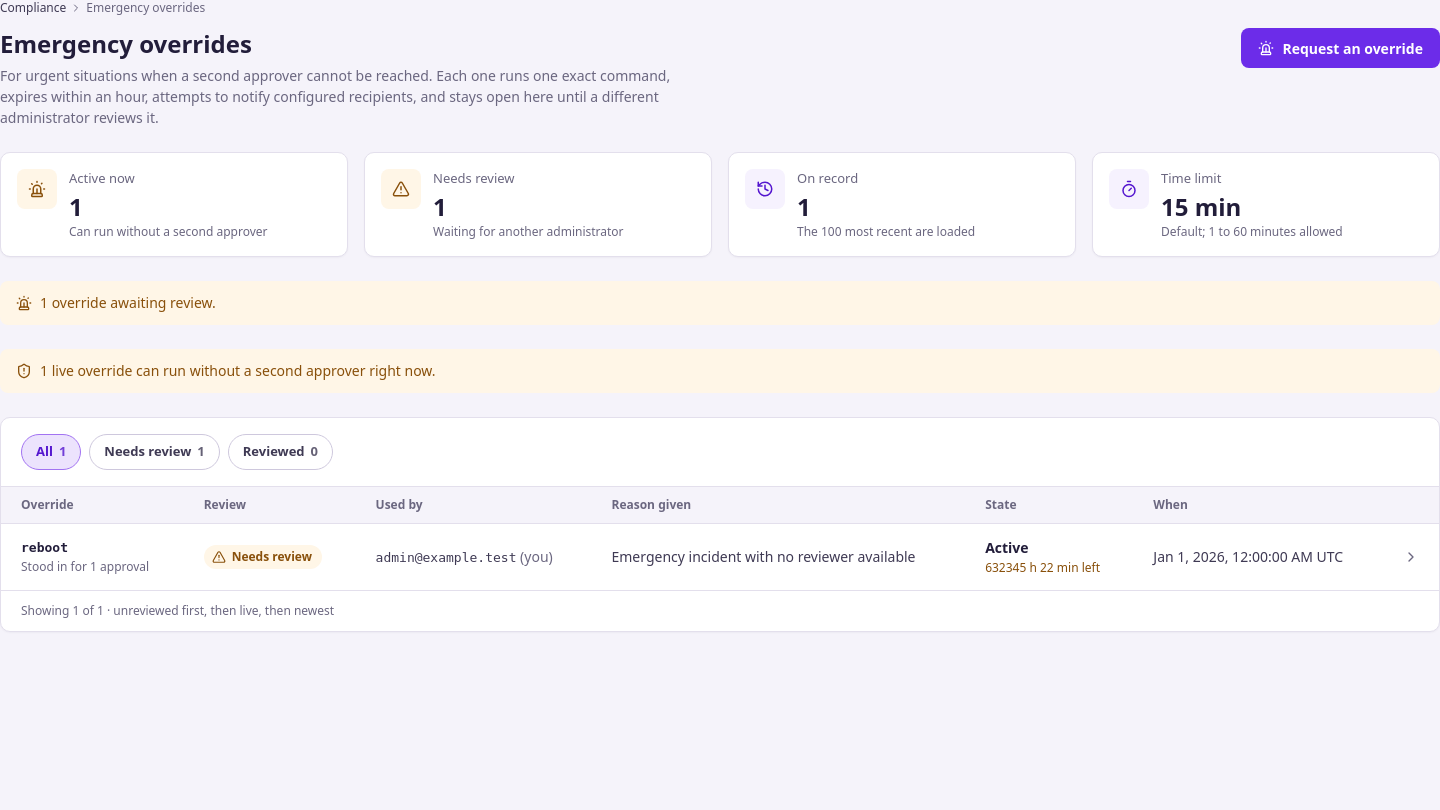
Test case: running an override requires confirmation while preserving the bodyless API and refusal
Click the row named "Open reboot override" at [720, 557], box [1, 523, 1439, 590]
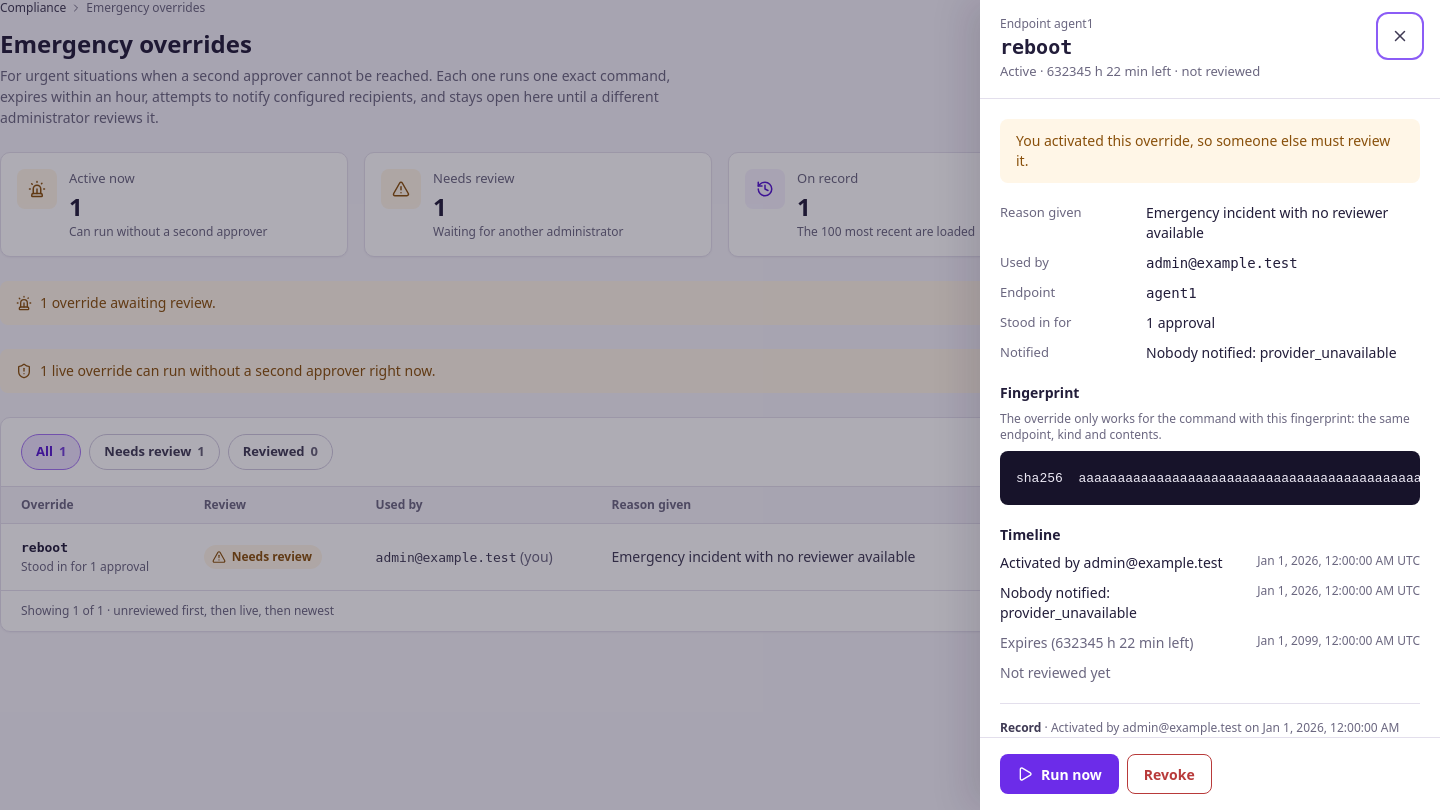
Click the button "Run now" at [1059, 774], box [1000, 754, 1119, 794]
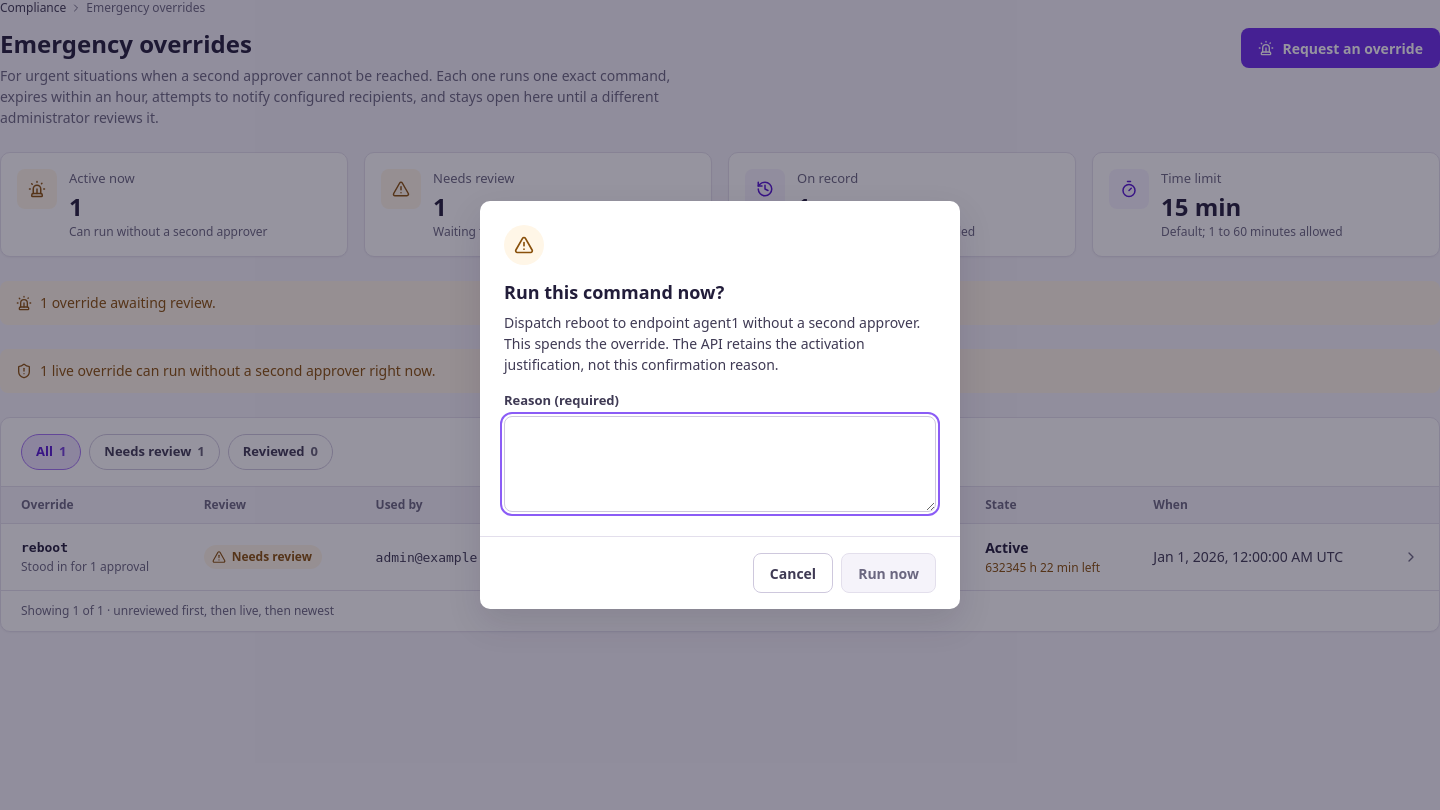
Type "Restore service" into the text box at [720, 464], box [504, 416, 936, 512]
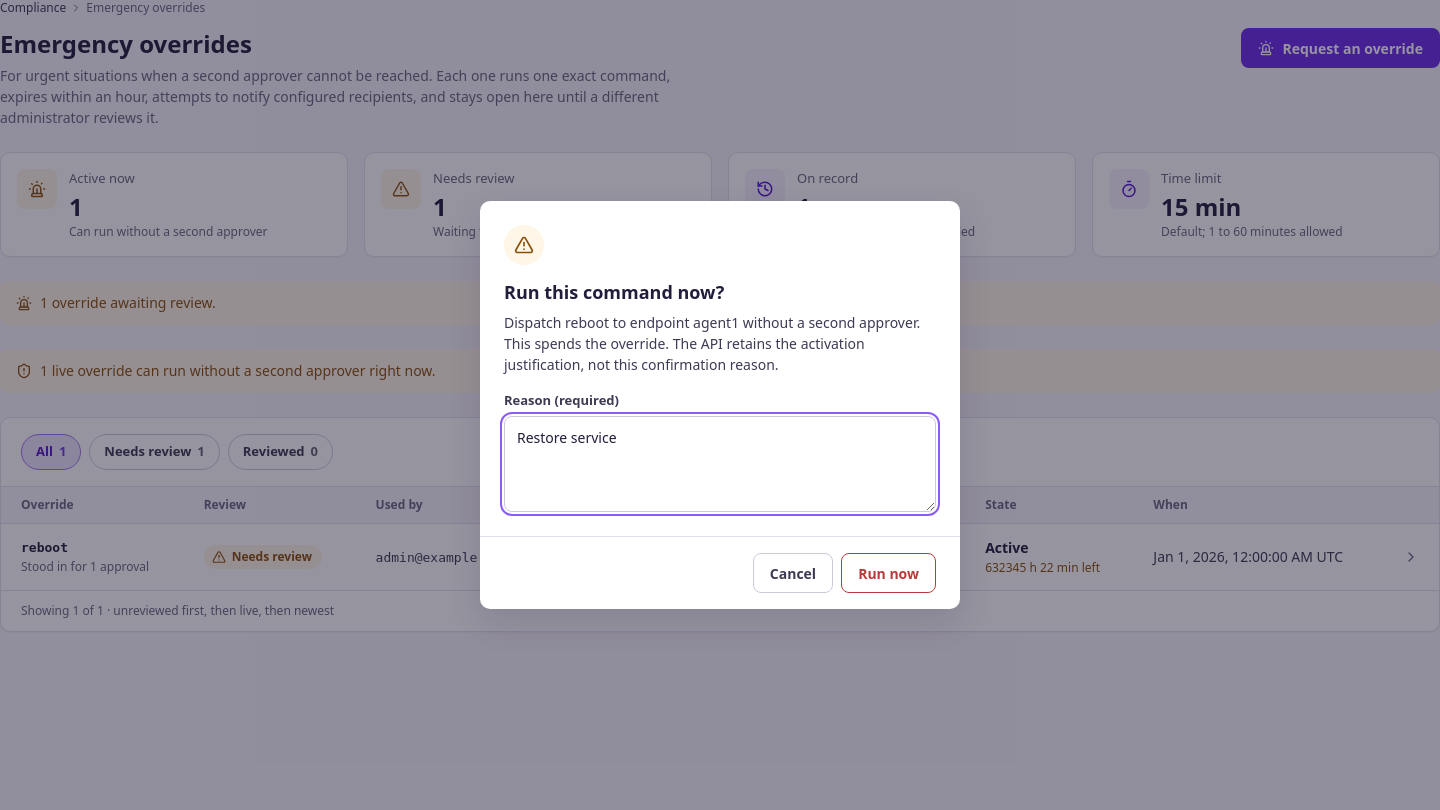
Click the button "Run now" at [889, 573], box [841, 553, 936, 593]
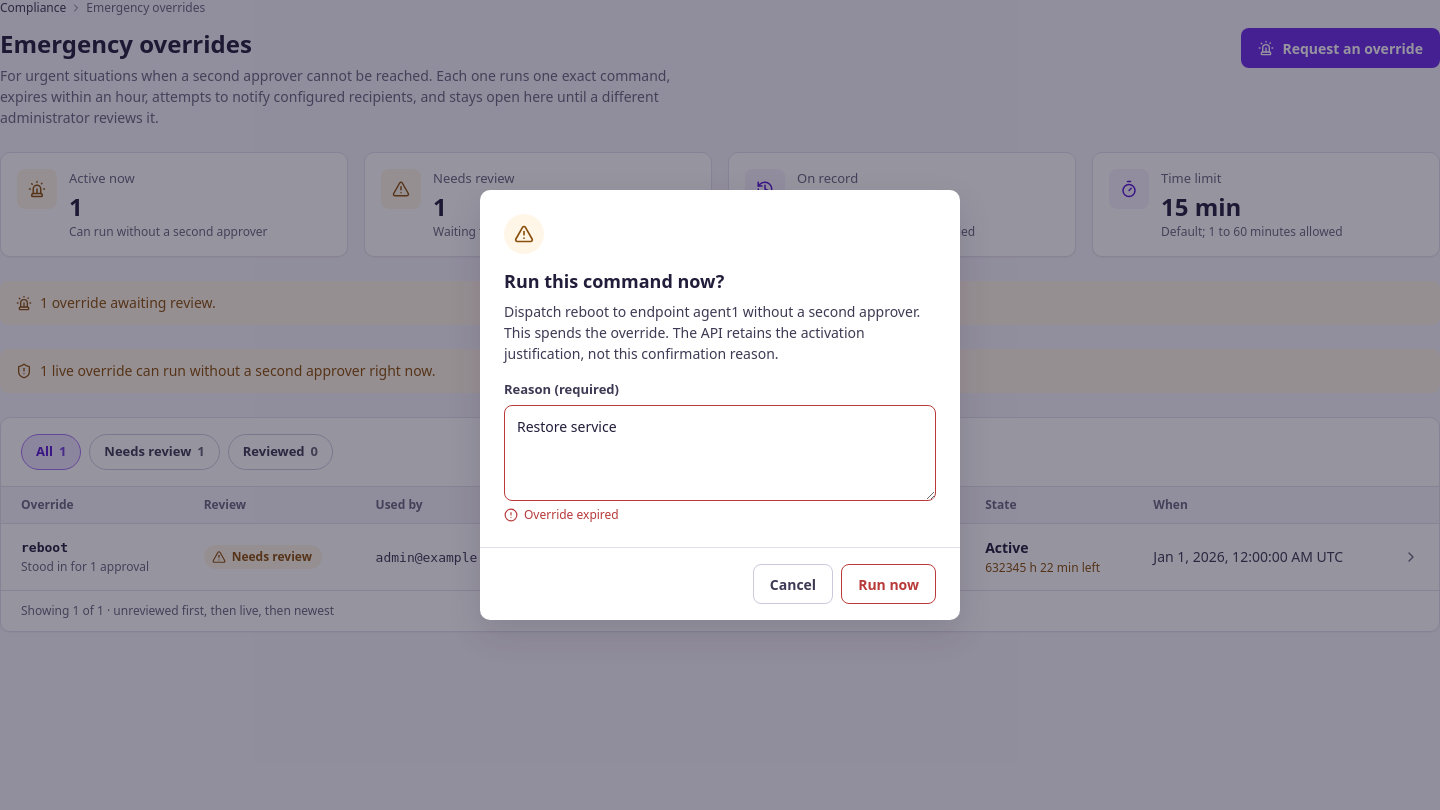
Check: the text "Override expired" is shown, box [504, 506, 619, 523]
